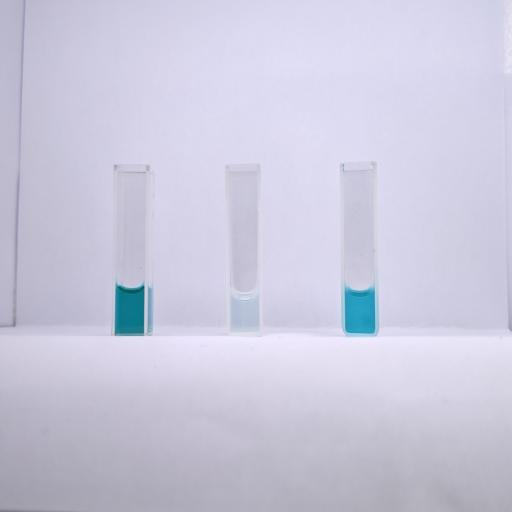cuvette: (222, 162, 265, 336), (109, 161, 151, 338), (339, 160, 380, 337)
liquid: (346, 286, 376, 333), (116, 285, 144, 333), (231, 290, 259, 331)
